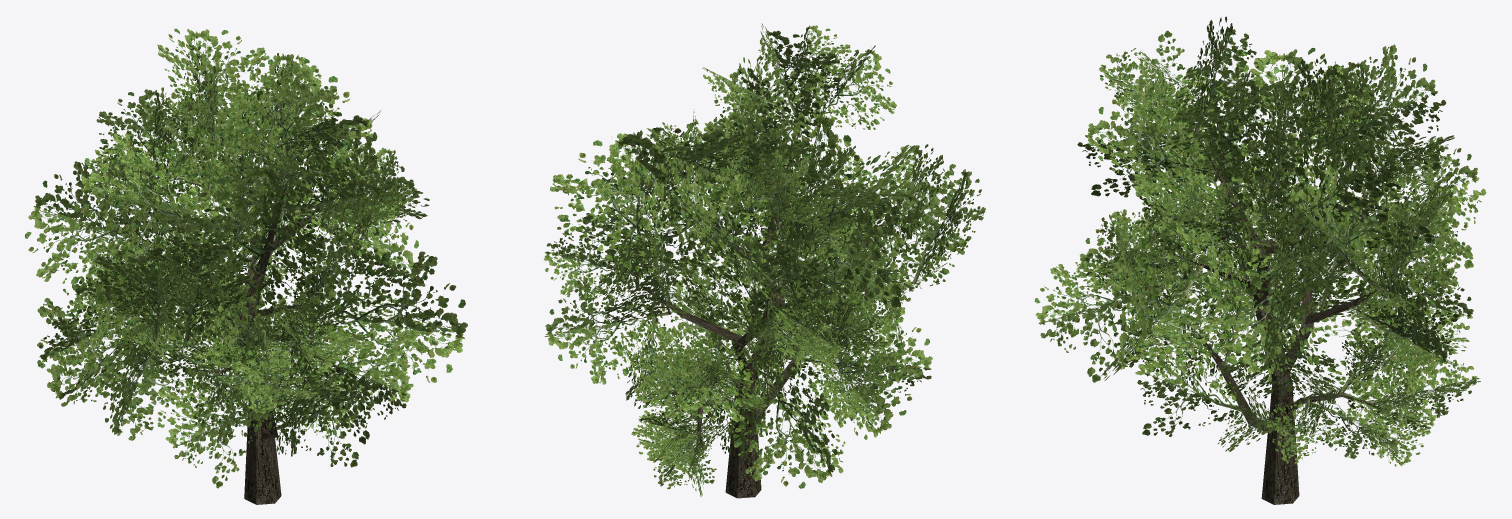
The model's file is tree_d.FBX.
The picture shows the model from 3 angles, left to right: view 1: azimuth 30°, elevation 25°; view 2: azimuth 150°, elevation 25°; view 3: azimuth 270°, elevation 25°; orthographic projection. The views are drawn at different scales.
Visible parts, largest first — view 1: tree_d; view 2: tree_d; view 3: tree_d.
Boxes of the visible parts, x1=… form: tree_d: x1=25, y1=28, x2=467, y2=504; tree_d: x1=543, y1=23, x2=985, y2=498; tree_d: x1=1034, y1=16, x2=1486, y2=504.
Size of the model in its own units: 16.59 by 19.87 by 17.78.
2 materials, 2 textured.
